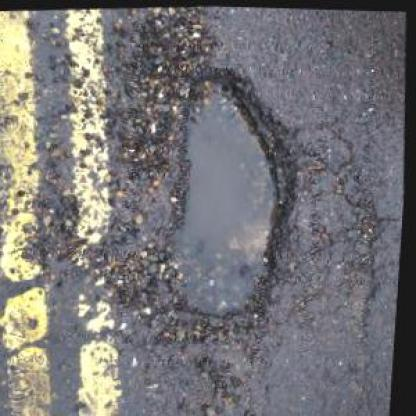pothole: (142, 57, 316, 342)
